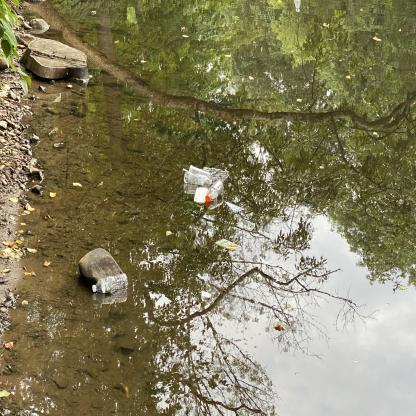trash: (90, 269, 133, 304), (182, 164, 212, 184), (200, 167, 232, 184), (205, 179, 226, 203), (214, 236, 242, 254), (183, 171, 213, 187), (192, 186, 210, 205)
